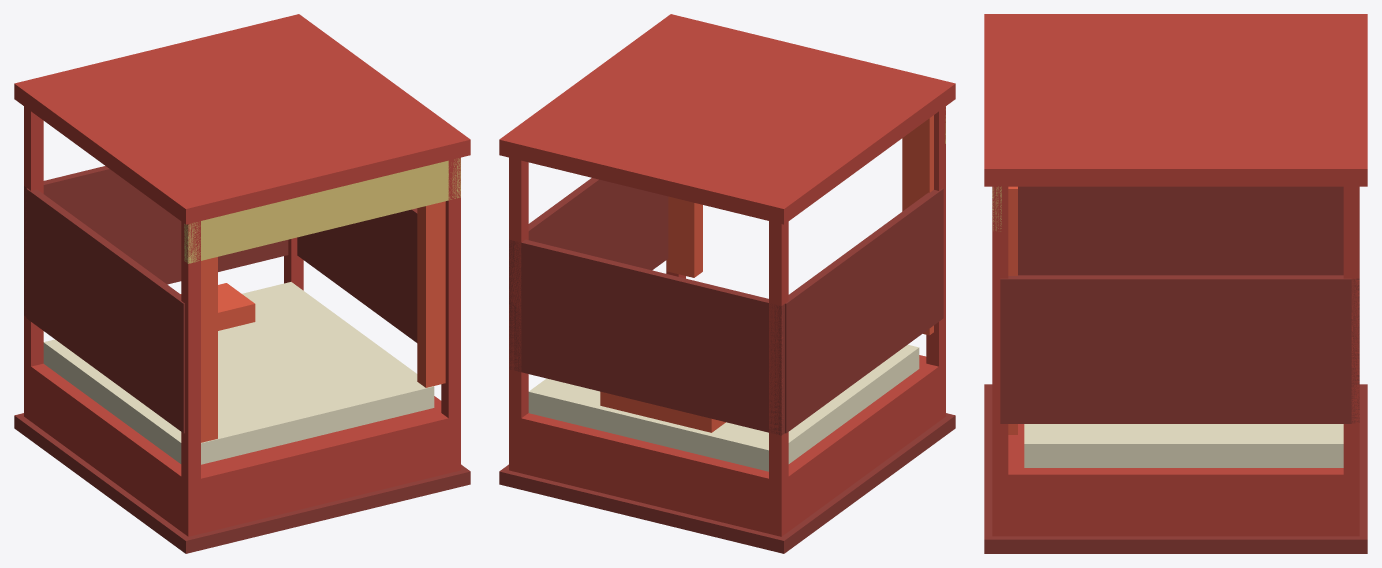
Rendered from cn_canopy_bed.glb.
The picture shows the model from 3 angles, left to right: view 1: azimuth 30°, elevation 25°; view 2: azimuth 150°, elevation 25°; view 3: azimuth 270°, elevation 25°; orthographic projection. The views are drawn at different scales.
Parts seen in each view (by area): view 1: cn_canopy_bed; view 2: cn_canopy_bed; view 3: cn_canopy_bed.
Part boxes in pixels (<box>): cn_canopy_bed: <box>14,14,470,553</box>; cn_canopy_bed: <box>499,14,955,553</box>; cn_canopy_bed: <box>984,14,1367,553</box>.
Bounding box in the file's own units: 2.3 × 2.66 × 2.4.
